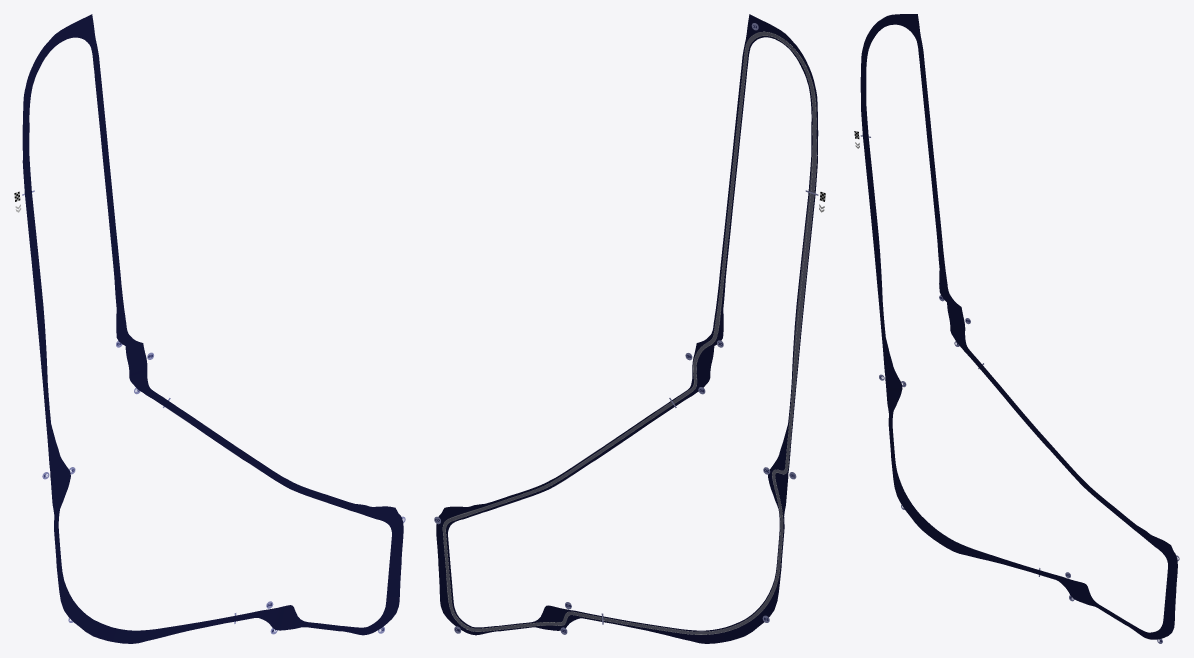
The model's file is monza.glb.
3 views of the same model, side by side, from view 1: azimuth 30°, elevation 25°; view 2: azimuth 150°, elevation 25°; view 3: azimuth 330°, elevation 25° (orthographic). The views are drawn at different scales.
Parts seen in each view (by area): view 1: runoff; view 2: runoff, tracklimit, whiteline; view 3: runoff.
Boxes of the visible parts, x1,y1,x2,y2 form: runoff: (22, 14, 403, 643); runoff: (436, 14, 818, 643); tracklimit: (443, 32, 818, 634); whiteline: (442, 31, 816, 634); runoff: (860, 14, 1177, 639).
Size of the model in its own units: 1332 by 2246 by 12.98.
